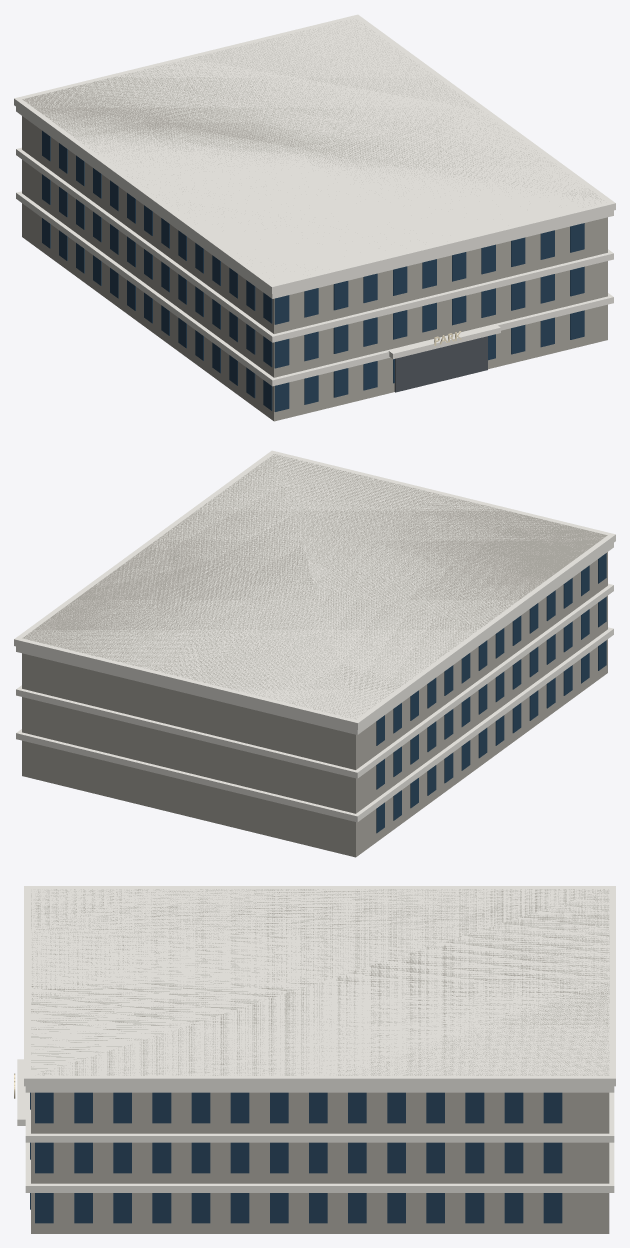
File: BLD_ParkingGarage.fbx
The picture shows the model from 3 angles, top to bottom: view 1: azimuth 30°, elevation 25°; view 2: azimuth 150°, elevation 25°; view 3: azimuth 270°, elevation 25°; orthographic projection. The views are drawn at different scales.
Parts seen in each view (by area): view 1: BLD_ParkingGarage__BODY, BLD_ParkingGarage__COL_Main; view 2: BLD_ParkingGarage__BODY, BLD_ParkingGarage__COL_Main; view 3: BLD_ParkingGarage__BODY, BLD_ParkingGarage__COL_Main.
Boxes of the visible parts, x1=… form: BLD_ParkingGarage__BODY: x1=14, y1=14, x2=615, y2=421; BLD_ParkingGarage__COL_Main: x1=22, y1=20, x2=607, y2=420; BLD_ParkingGarage__BODY: x1=14, y1=450, x2=615, y2=857; BLD_ParkingGarage__COL_Main: x1=22, y1=454, x2=607, y2=856; BLD_ParkingGarage__BODY: x1=17, y1=886, x2=615, y2=1233; BLD_ParkingGarage__COL_Main: x1=31, y1=889, x2=609, y2=1233.
Bounding box in the file's own units: 26.8 × 10.25 × 35.39.
